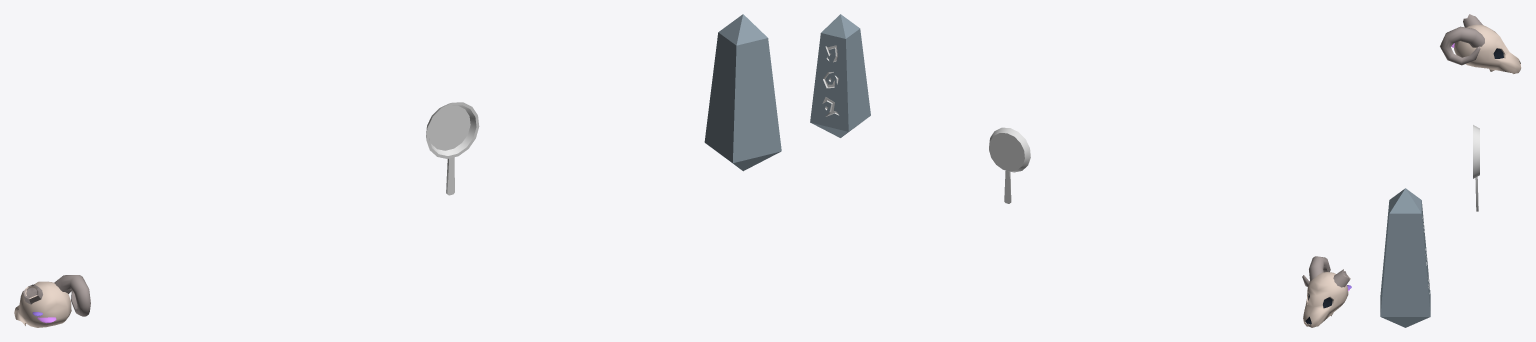
The model's file is mushroom zone final 2.fbx.
3 renders of one model, left to right at view 1: azimuth 30°, elevation 25°; view 2: azimuth 150°, elevation 25°; view 3: azimuth 270°, elevation 25°, orthographic. The views are drawn at different scales.
Parts seen in each view (by area): view 1: Junk_Obelisk, animal skull, Junk_Pan; view 2: Junk_Obelisk, animal skull, Junk_Pan; view 3: Junk_Obelisk, animal skull, Junk_Pan.
Boxes of the visible parts, left/top/right/bottom form: Junk_Obelisk: left=704, top=14, right=781, bottom=171; animal skull: left=14, top=275, right=90, bottom=327; Junk_Pan: left=426, top=102, right=479, bottom=195; Junk_Obelisk: left=810, top=14, right=870, bottom=137; animal skull: left=1302, top=256, right=1351, bottom=327; Junk_Pan: left=989, top=127, right=1030, bottom=203; Junk_Obelisk: left=1380, top=188, right=1430, bottom=327; animal skull: left=1440, top=14, right=1521, bottom=73; Junk_Pan: left=1473, top=125, right=1479, bottom=211.
Size of the model in its own units: 23.72 by 6.09 by 4.62.
